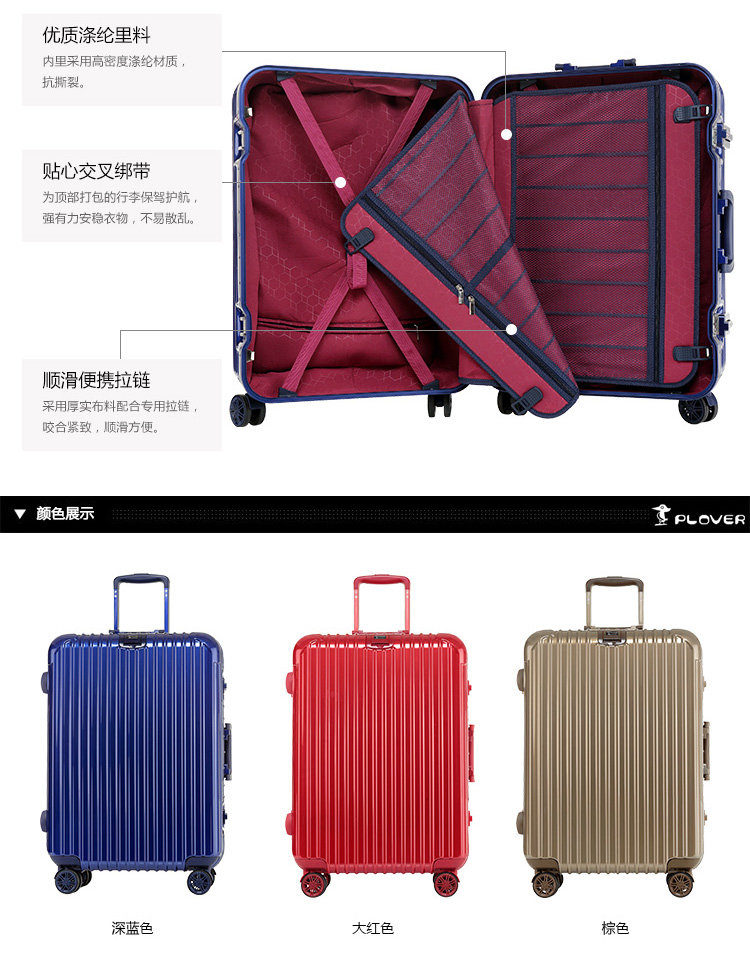luggage: (40, 573, 233, 894), (282, 575, 475, 896), (516, 576, 709, 897)
